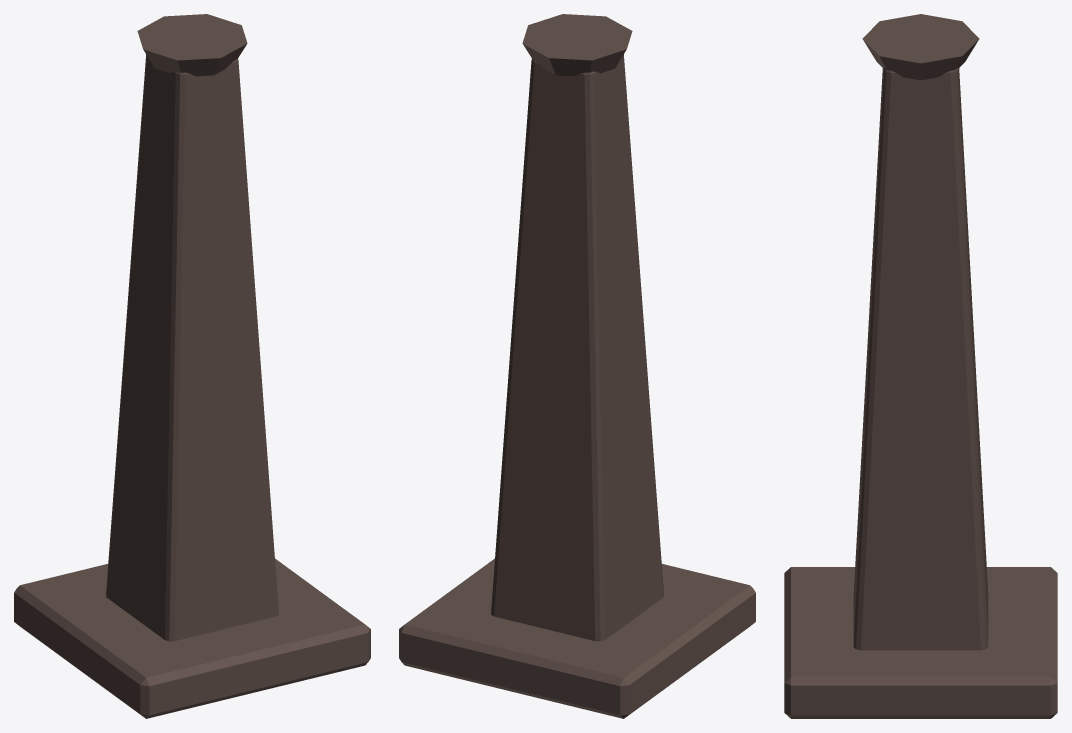
The model's file is kit_obelisk.ol.glb.
3 renders of one model, left to right at view 1: azimuth 30°, elevation 25°; view 2: azimuth 150°, elevation 25°; view 3: azimuth 270°, elevation 25°, orthographic. The views are drawn at different scales.
Parts seen in each view (by area): view 1: outline; view 2: outline; view 3: outline.
Part boxes in pixels (<box>): outline: <box>14,14,370,718</box>; outline: <box>399,14,755,718</box>; outline: <box>784,14,1057,718</box>.
Bounding box in the file's own units: 2.65 × 6.71 × 2.65.
